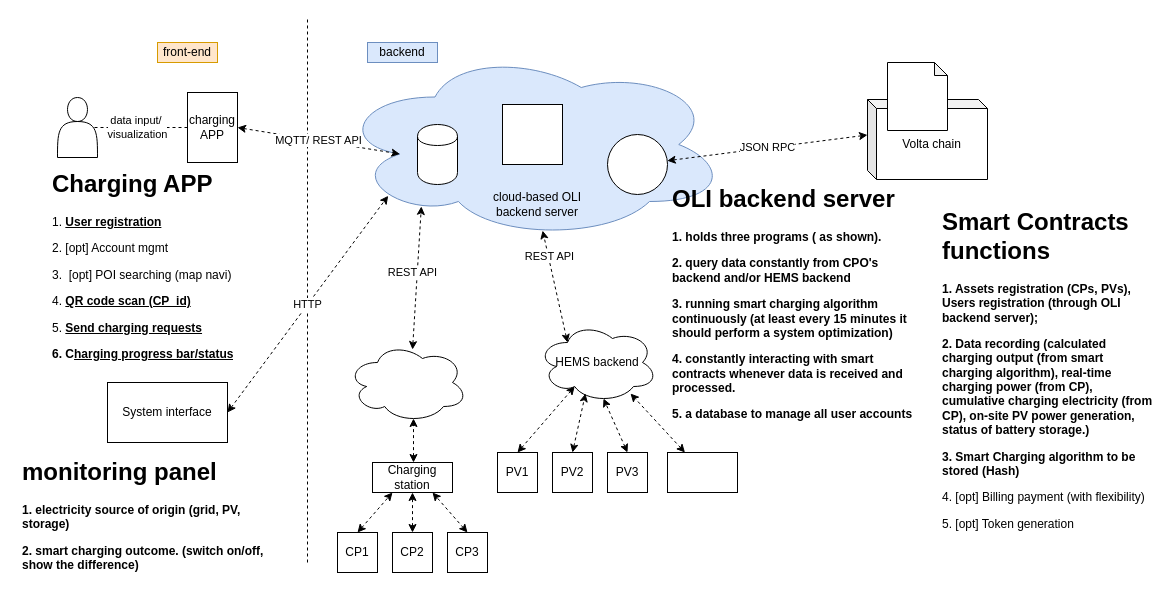
This 1174x590 diagram has some shape labels left out. The centre of each missing label's shape, as x and y in pixels:
"Battery storage" goes at (702,472).
"CPO's backend" goes at (407,382).
"Ethereum client" goes at (637,164).
"EV User" goes at (77,127).
"Smart Charging algorithm" goes at (532,134).
"Smart Contracts" goes at (917,96).
"User mgmt" goes at (437,154).
